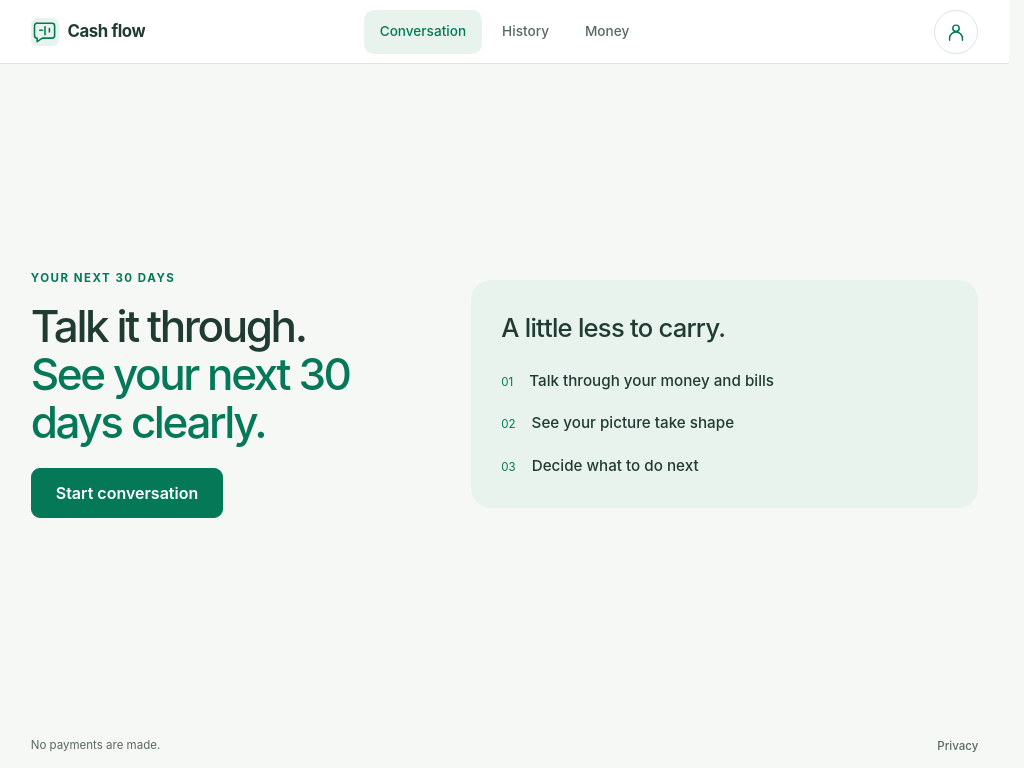
it: reopens saved unavailable answers without claiming missing money is zero
Expected: the button "Start conversation" is shown, [31, 468, 223, 518]
Click the link "Money" at (607, 31), box [585, 23, 629, 39]
(page scrolled)
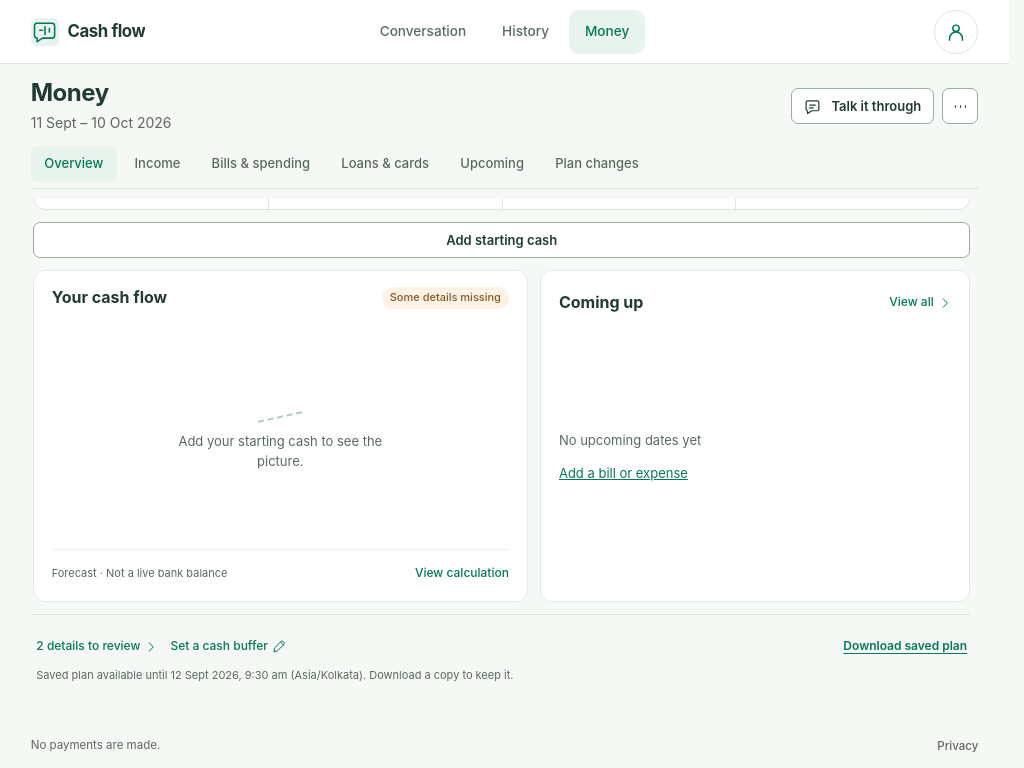
Click the button "2 details to review" at (97, 647), box [36, 631, 158, 663]
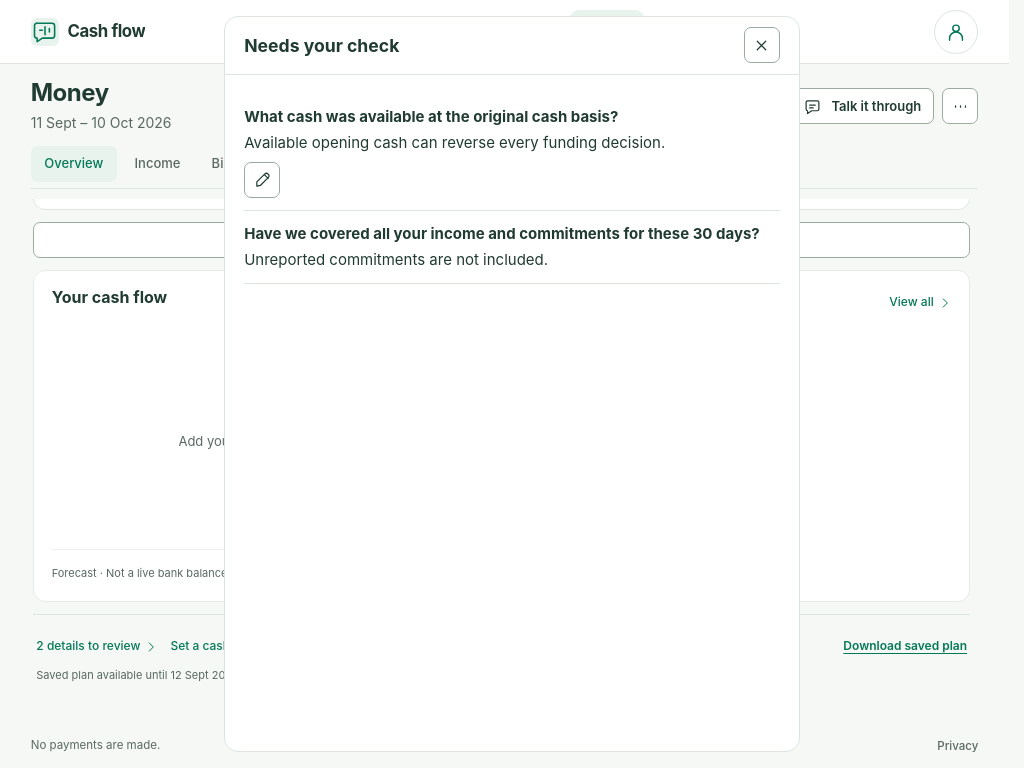
Expected: the dialog "Needs your check" shows "Have we covered all your income and commitments for these 30 days?", [244, 224, 760, 243]
Expected: the dialog "Needs your check" shows "What cash was available at the original cash basis?", [244, 107, 618, 126]
